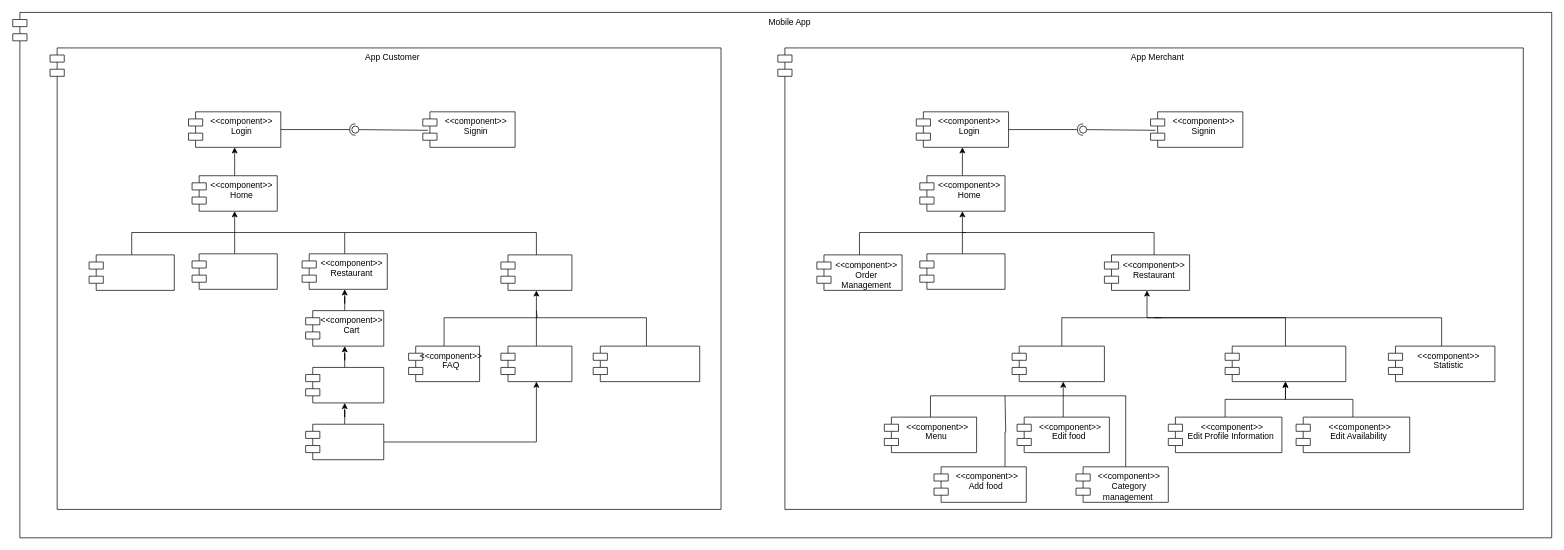
This 1564x550 diagram has some shape labels left out. The shapes that lost their labels are listed below. From the top down, each one's centre as x and y in pixels, then its label:
At point 131,272: "<<component>> Nearby restaurant".
At point 234,271: "<<component>> Search".
At point 536,272: "<<component>> Personal".
At point 962,271: "<<component>> Notification".
At point 536,363: "<<component>> Order history".
At point 646,363: "<<component>> Address management".
At point 1057,363: "<<component>> Menu management".
At point 1285,363: "<<component>> Information management".
At point 344,385: "<<component>> Payment".
At point 344,442: "<<component>> Checkout".
